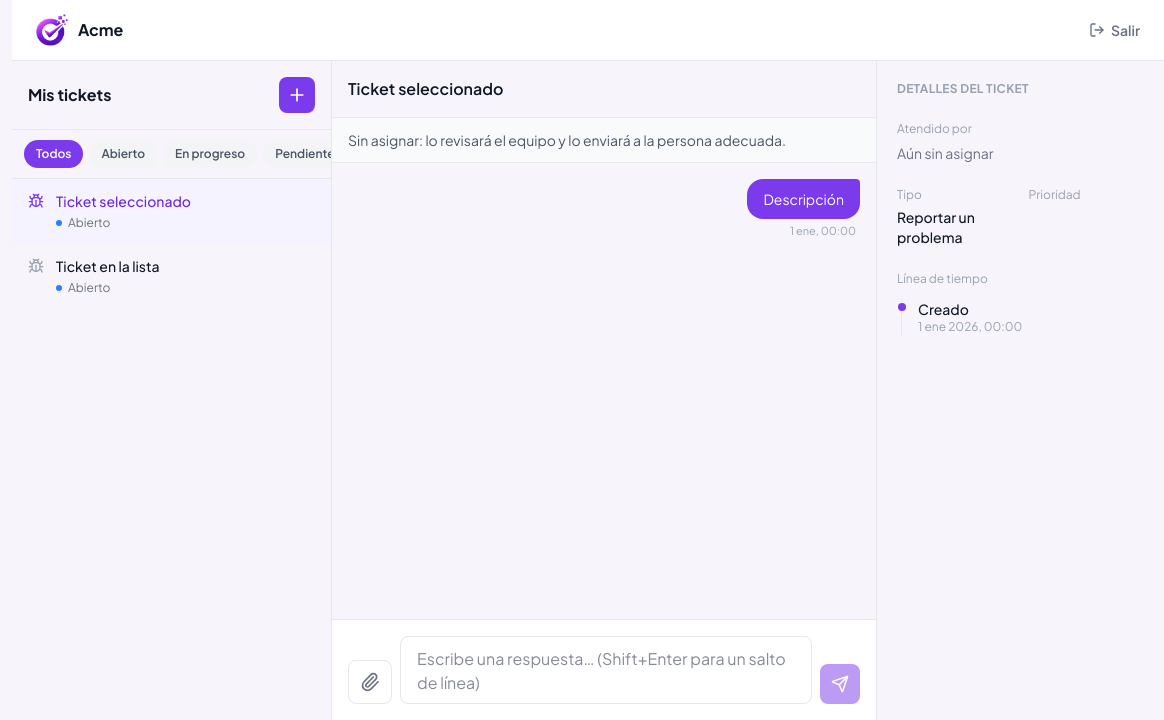
PortalInboxScreen detalle del ticket › envía desde el compositor y el comentario aparece una sola vez
Type "Hola equipo" into the text box named "Tu respuesta".
click(606, 670); type("Hola equipo")  # box top-left (400, 636), bottom-right (812, 704)
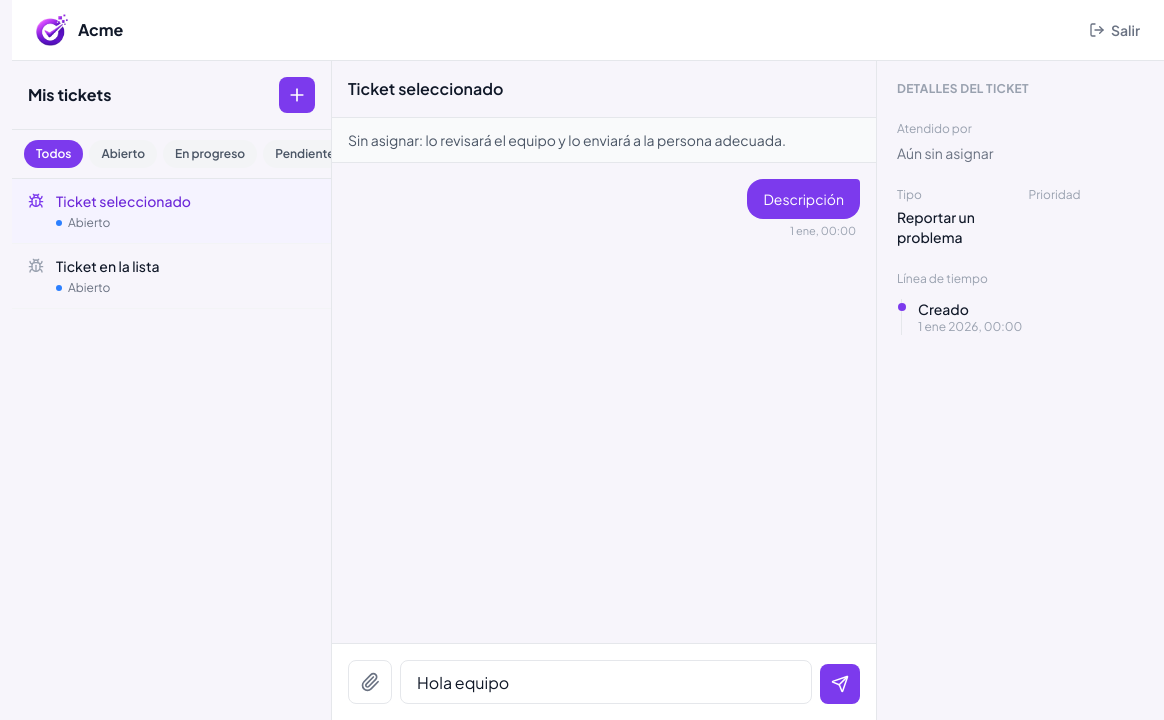
Press Enter in the text box named "Tu respuesta", box top-left (400, 660), bottom-right (812, 704)
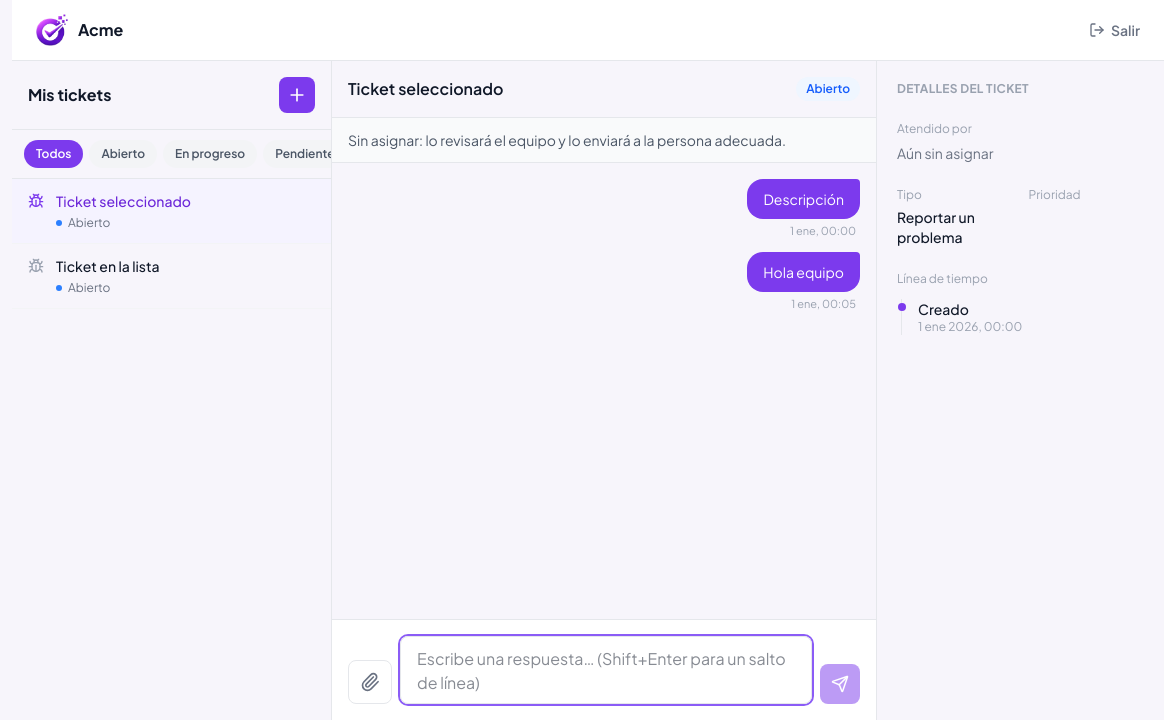
Expected: the text "Hola equipo" is shown once, top-left (747, 252), bottom-right (860, 292)
